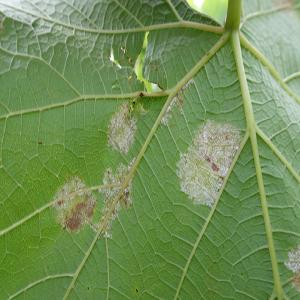Folha: (0, 0, 299, 298)
Fungo: (52, 99, 138, 237), (176, 118, 241, 207), (90, 160, 136, 238), (52, 174, 98, 234), (106, 99, 138, 155), (284, 243, 300, 293)
